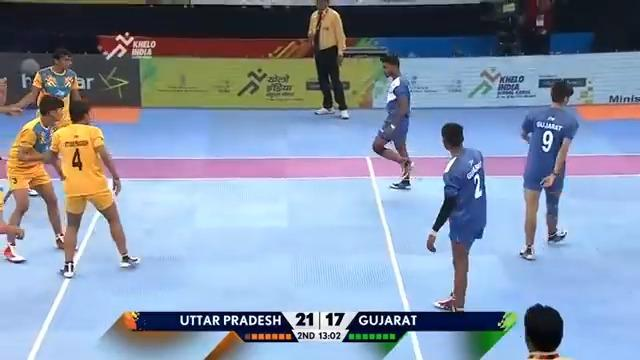Player: (47, 99, 140, 278), (426, 122, 487, 311), (0, 94, 66, 262), (518, 80, 579, 260), (4, 47, 82, 128), (371, 54, 414, 189), (522, 302, 574, 359)
referee: (306, 0, 350, 119)
